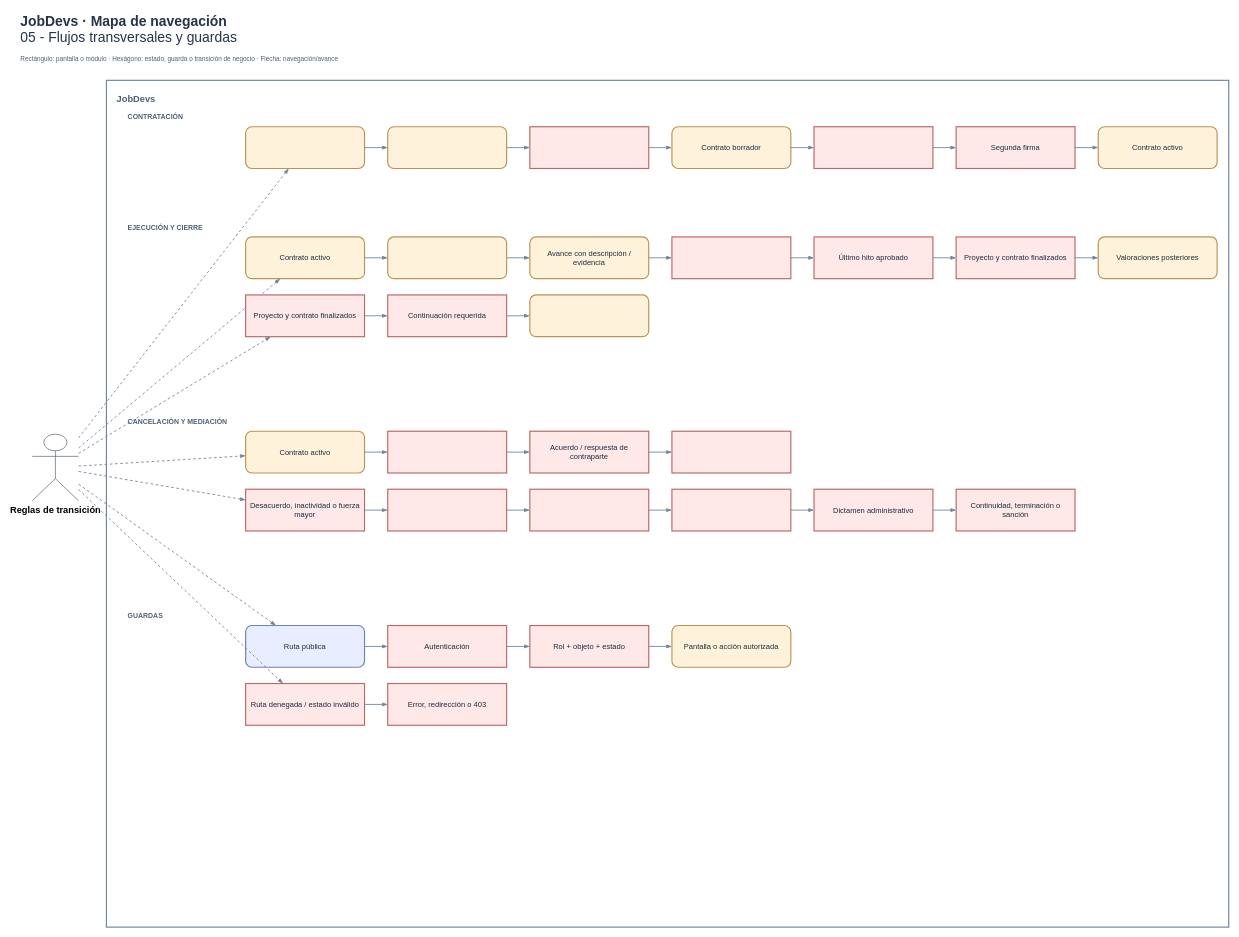
This 1239x937 diagram has some shape labels left out. The shapes that lost their labels are listed below. From the top down, each one's centre as x and y in pixels, then its label:
At (x=305, y=147): "Proyecto con vacante".
At (x=447, y=147): "Postulación".
At (x=589, y=147): "Negociación: cupo reservado".
At (x=873, y=147): "Primera firma: no activa".
At (x=447, y=257): "Hitos".
At (x=731, y=257): "Revisión de empresa".
At (x=589, y=315): "Nuevo proyecto sucesor vinculado".
At (x=447, y=451): "Solicitud con causal".
At (x=731, y=451): "Cancelar sin sanción o continuar".
At (x=447, y=509): "Abrir mediación".
At (x=589, y=509): "Congelar proyecto y cupo".
At (x=731, y=509): "Evidencia privada".
